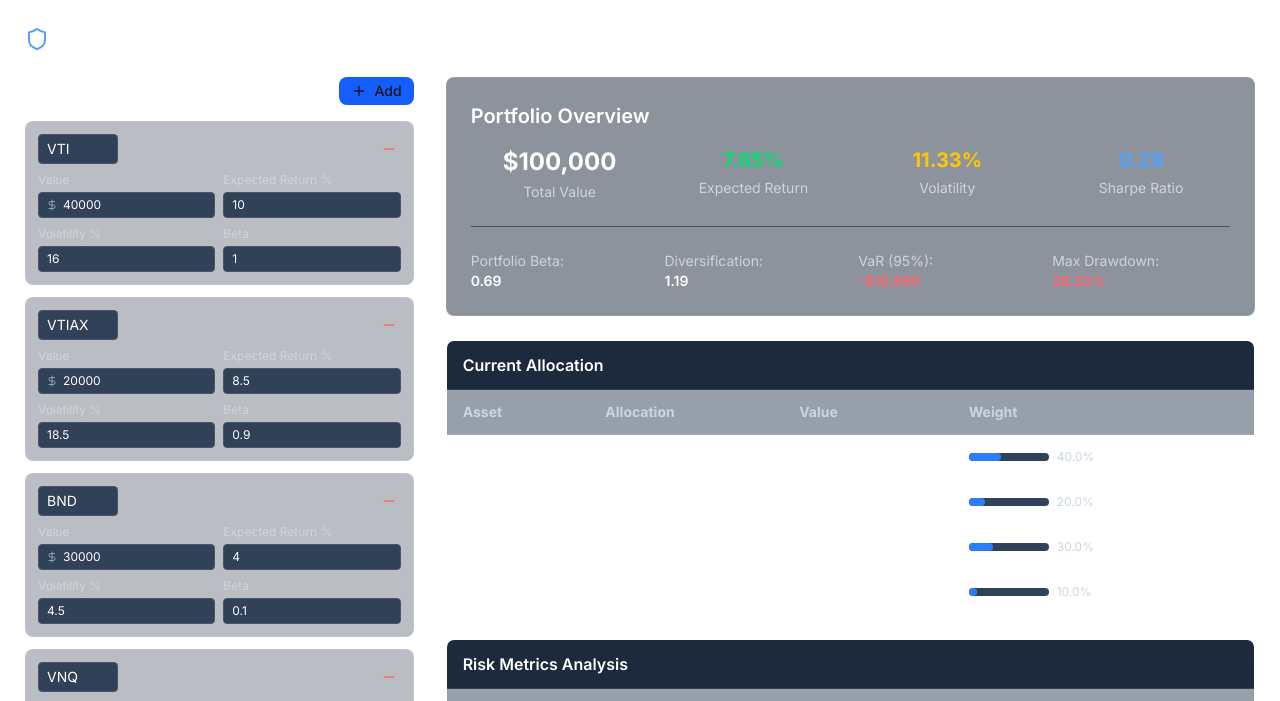
Test case: PortfolioRiskAnalyzer › provides rebalancing recommendations when needed
Replace the text in the 1st number field showing "40000" with "60000": [127, 205] box top-left (38, 192), bottom-right (215, 218)
(page scrolled)
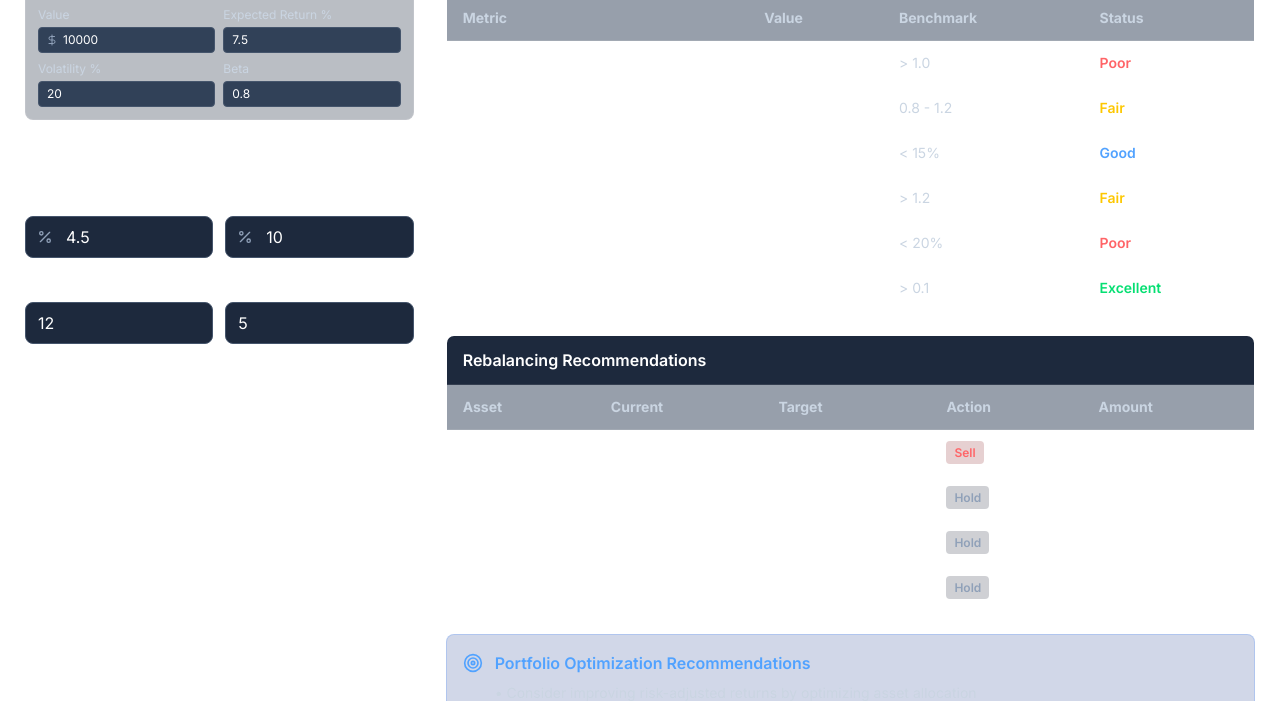
Result: the heading "Rebalancing Recommendations" is shown at top-left (463, 350), bottom-right (706, 370)
